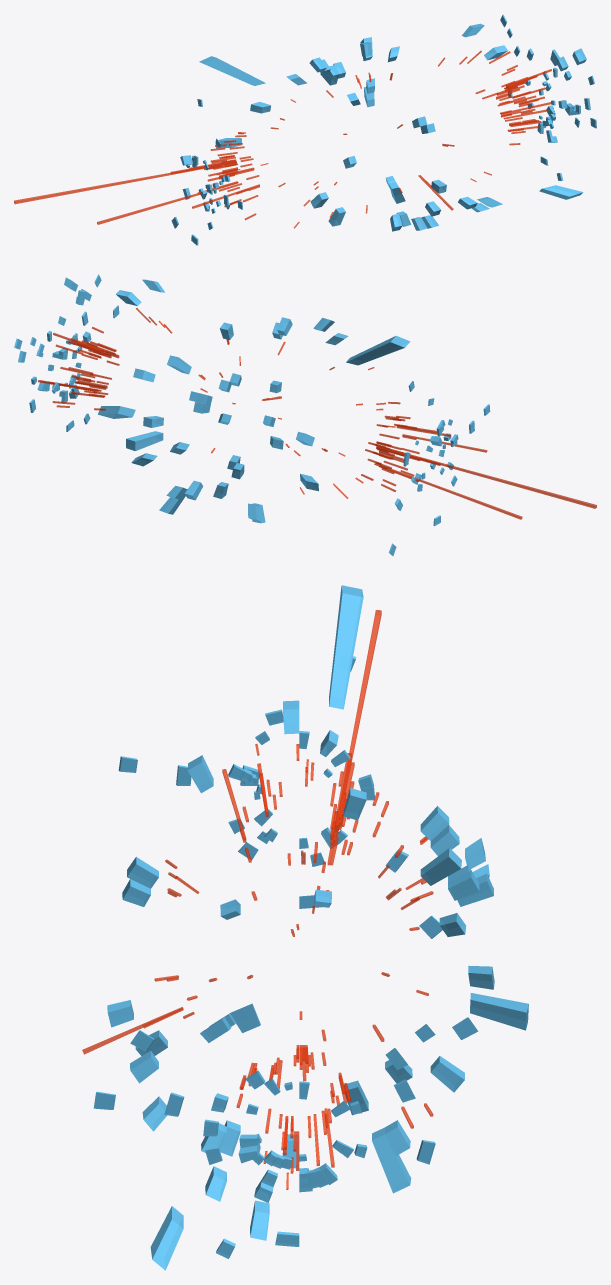
File: Event_27938768_calo.fbx
3 views of the same model, one above another, from view 1: azimuth 30°, elevation 25°; view 2: azimuth 150°, elevation 25°; view 3: azimuth 270°, elevation 25° (orthographic). The views are drawn at different scales.
Parts seen in each view (by area): view 1: Model; view 2: Model; view 3: Model.
Part boxes in pixels (left/top/right/bottom): Model: left=14, top=14, right=596, bottom=245; Model: left=14, top=274, right=596, bottom=556; Model: left=82, top=585, right=528, bottom=1270.
Bounding box in the file's own units: 32.95 × 12.01 × 12.01.
